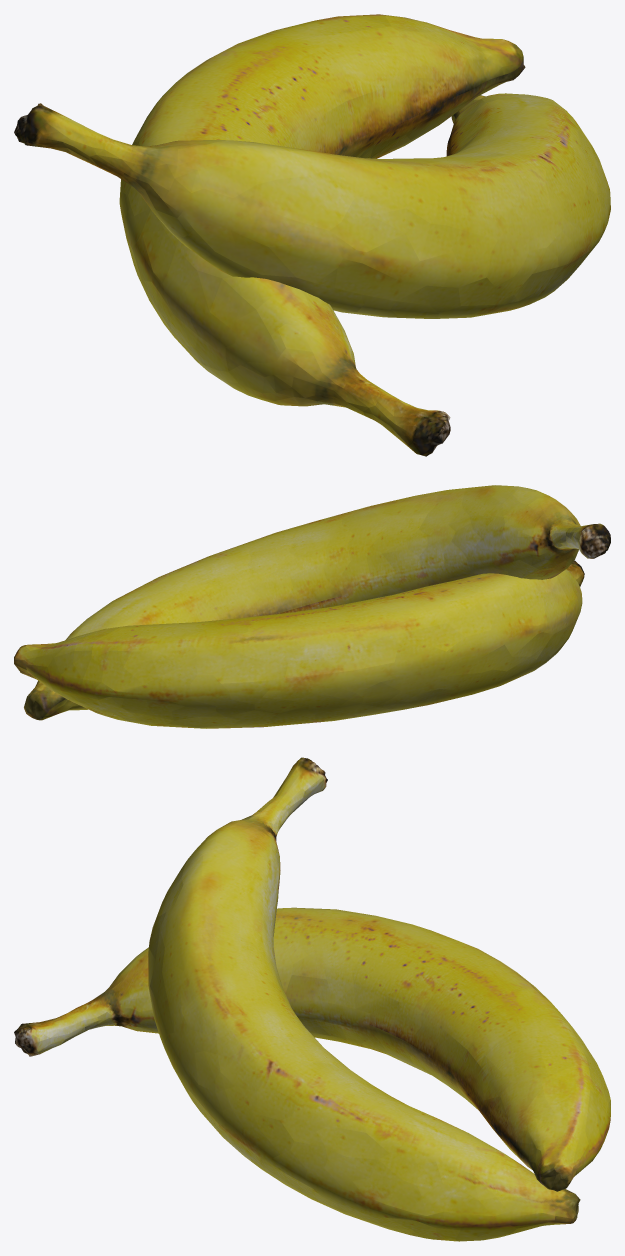
File: bananas.gltf
3 renders of one model, top to bottom at view 1: azimuth 30°, elevation 25°; view 2: azimuth 150°, elevation 25°; view 3: azimuth 270°, elevation 25°, orthographic. The views are drawn at different scales.
Parts seen in each view (by area): view 1: Banana, Banana001; view 2: Banana001, Banana; view 3: Banana, Banana001.
Boxes of the visible parts, left/top/right/bottom form: Banana: left=14, top=93, right=610, bottom=318; Banana001: left=119, top=14, right=525, bottom=456; Banana001: left=14, top=560, right=584, bottom=728; Banana: left=24, top=485, right=610, bottom=720; Banana: left=148, top=757, right=580, bottom=1241; Banana001: left=14, top=907, right=610, bottom=1191.
Bounding box in the file's own units: 7.47 × 3.47 × 7.43.
2 materials, 2 textured.
